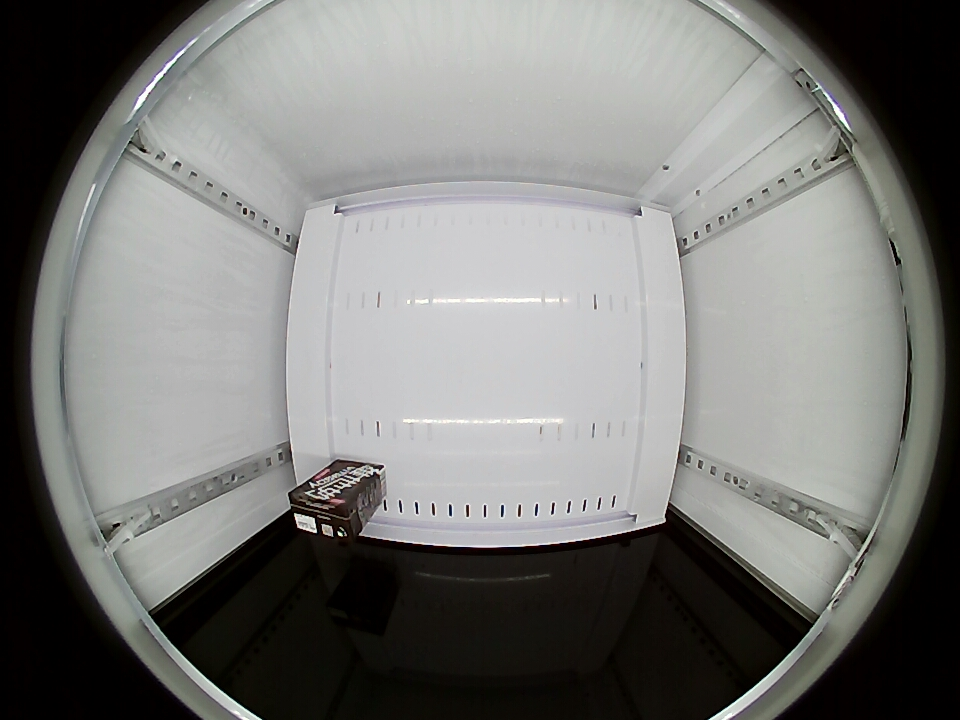weitanai2: (287, 482, 364, 541)
